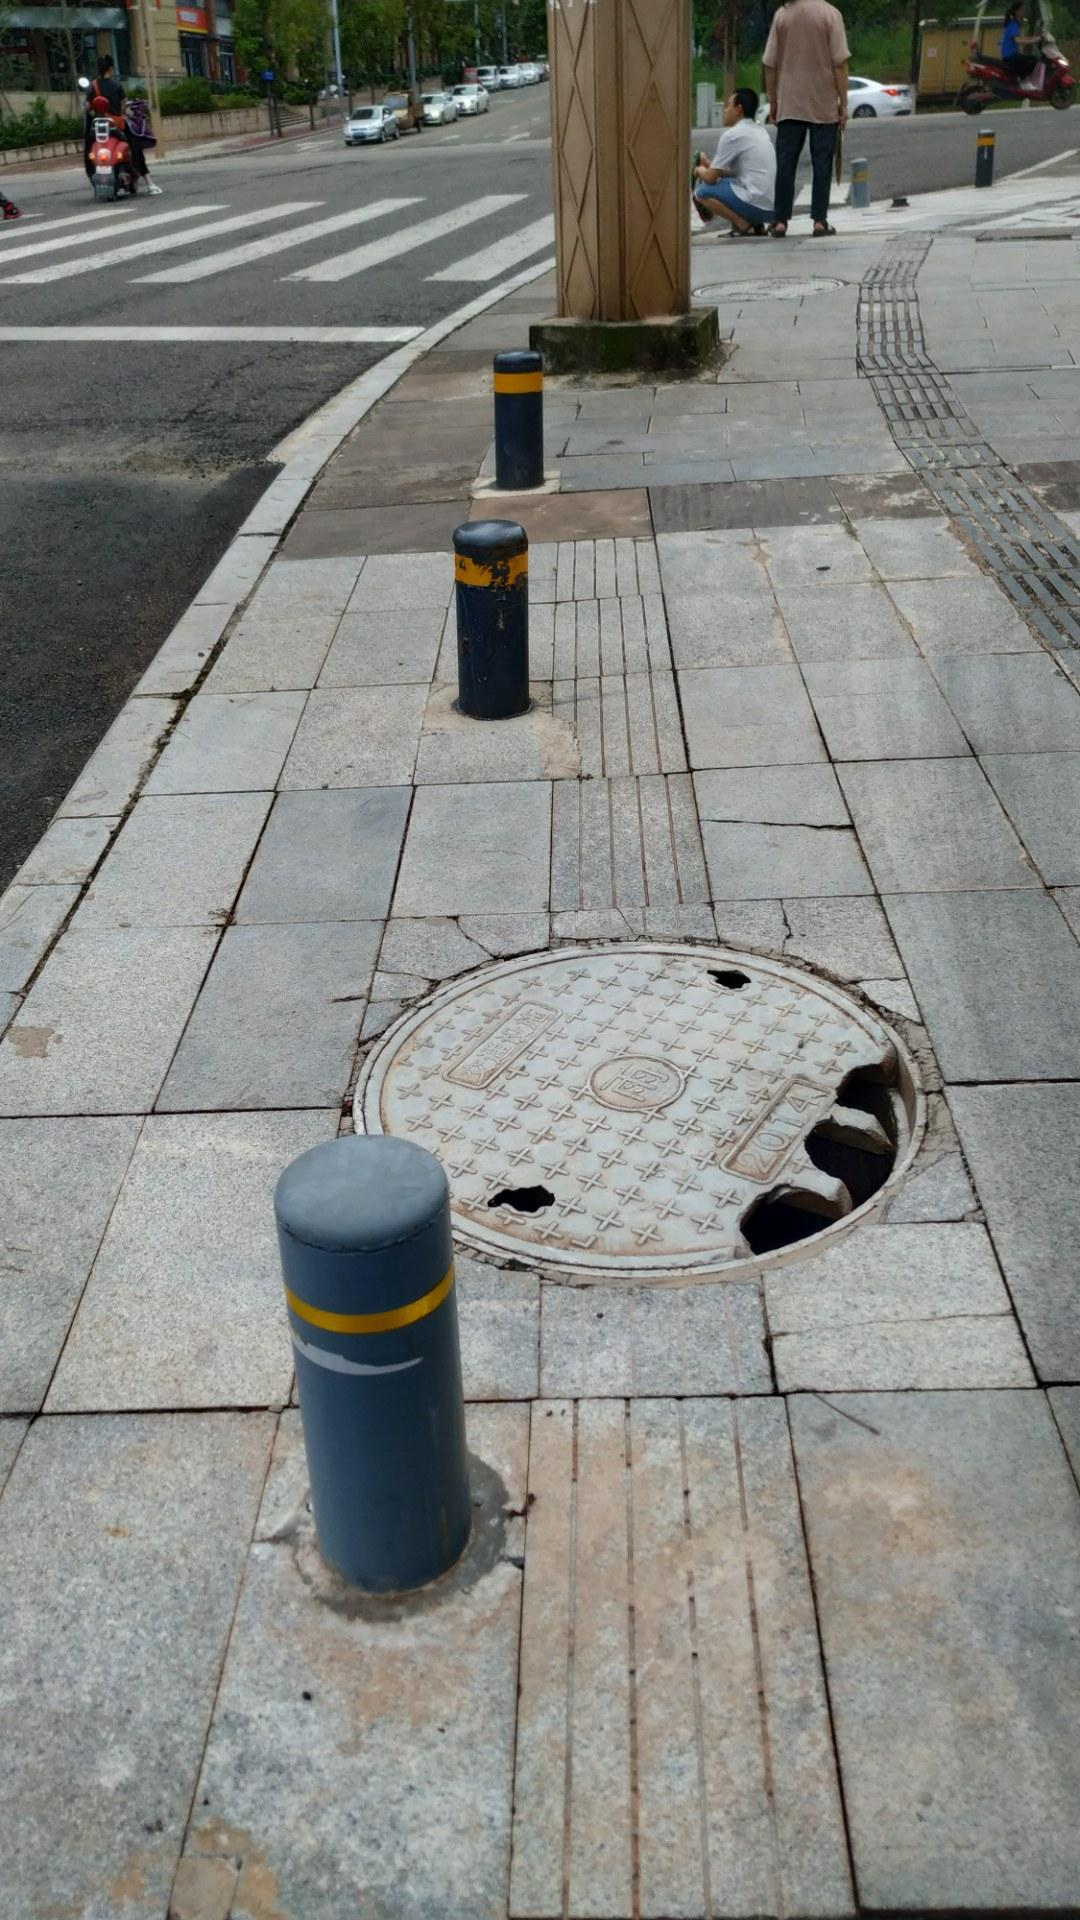wellcover: (305, 828, 1000, 1333)
